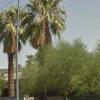Palm tree: (3, 4, 65, 94)
